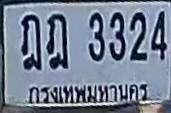2: (130, 11, 146, 61)
3: (109, 11, 125, 61), (88, 12, 104, 61)
4: (150, 10, 166, 60)
A14: (20, 14, 41, 70), (46, 13, 67, 68)
BKK: (23, 78, 150, 107)
